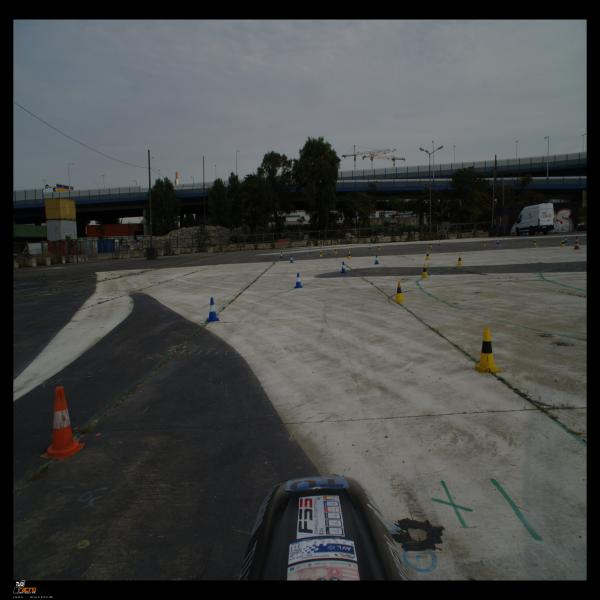blue_cone: (206, 298, 220, 322), (293, 273, 303, 288), (340, 262, 347, 274), (374, 255, 379, 264), (290, 255, 294, 263), (280, 252, 283, 259), (565, 237, 568, 243), (309, 249, 312, 254), (368, 245, 371, 250), (438, 241, 441, 246), (496, 239, 499, 244)
large_orange_cone: (573, 236, 580, 250)
orange_cone: (40, 386, 85, 460)
yellow_cone: (471, 327, 502, 374), (394, 281, 405, 302), (420, 263, 429, 278), (457, 255, 463, 266), (425, 251, 430, 260), (347, 251, 352, 259), (533, 239, 537, 246), (561, 240, 565, 247), (319, 250, 322, 258), (334, 248, 338, 254), (482, 240, 486, 246), (377, 245, 381, 250), (429, 242, 432, 248)
